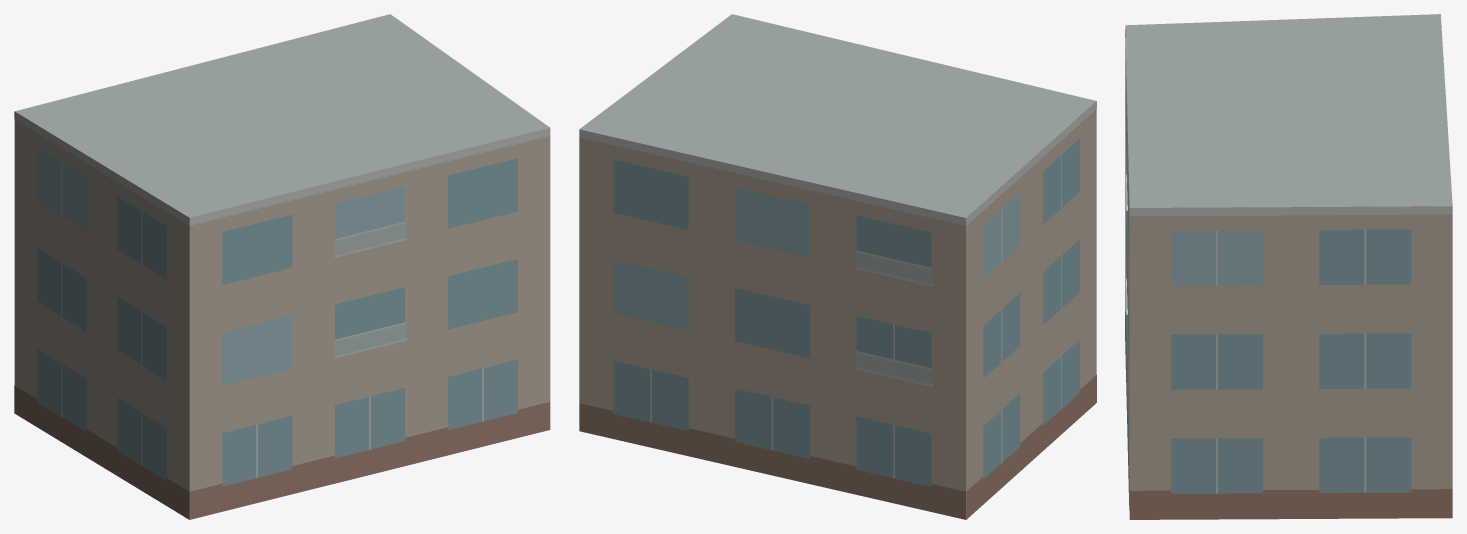
The model's file is survey-upis-32752651.glb.
The picture shows the model from 3 angles, left to right: view 1: azimuth 30°, elevation 25°; view 2: azimuth 150°, elevation 25°; view 3: azimuth 270°, elevation 25°; orthographic projection. The views are drawn at different scales.
Visible parts, largest first — view 1: survey-upis-32752651.tmp; view 2: survey-upis-32752651.tmp; view 3: survey-upis-32752651.tmp.
Part boxes in pixels (bbox=[...]): survey-upis-32752651.tmp: bbox=[14, 14, 550, 519]; survey-upis-32752651.tmp: bbox=[579, 14, 1096, 519]; survey-upis-32752651.tmp: bbox=[1125, 14, 1452, 519].
Bounding box in the file's own units: 12.22 × 9.15 × 8.72.
